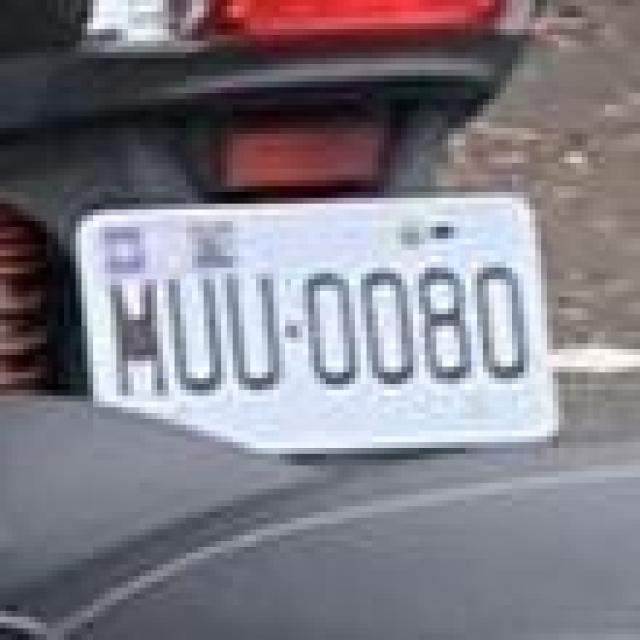W: (70, 157, 558, 489)
